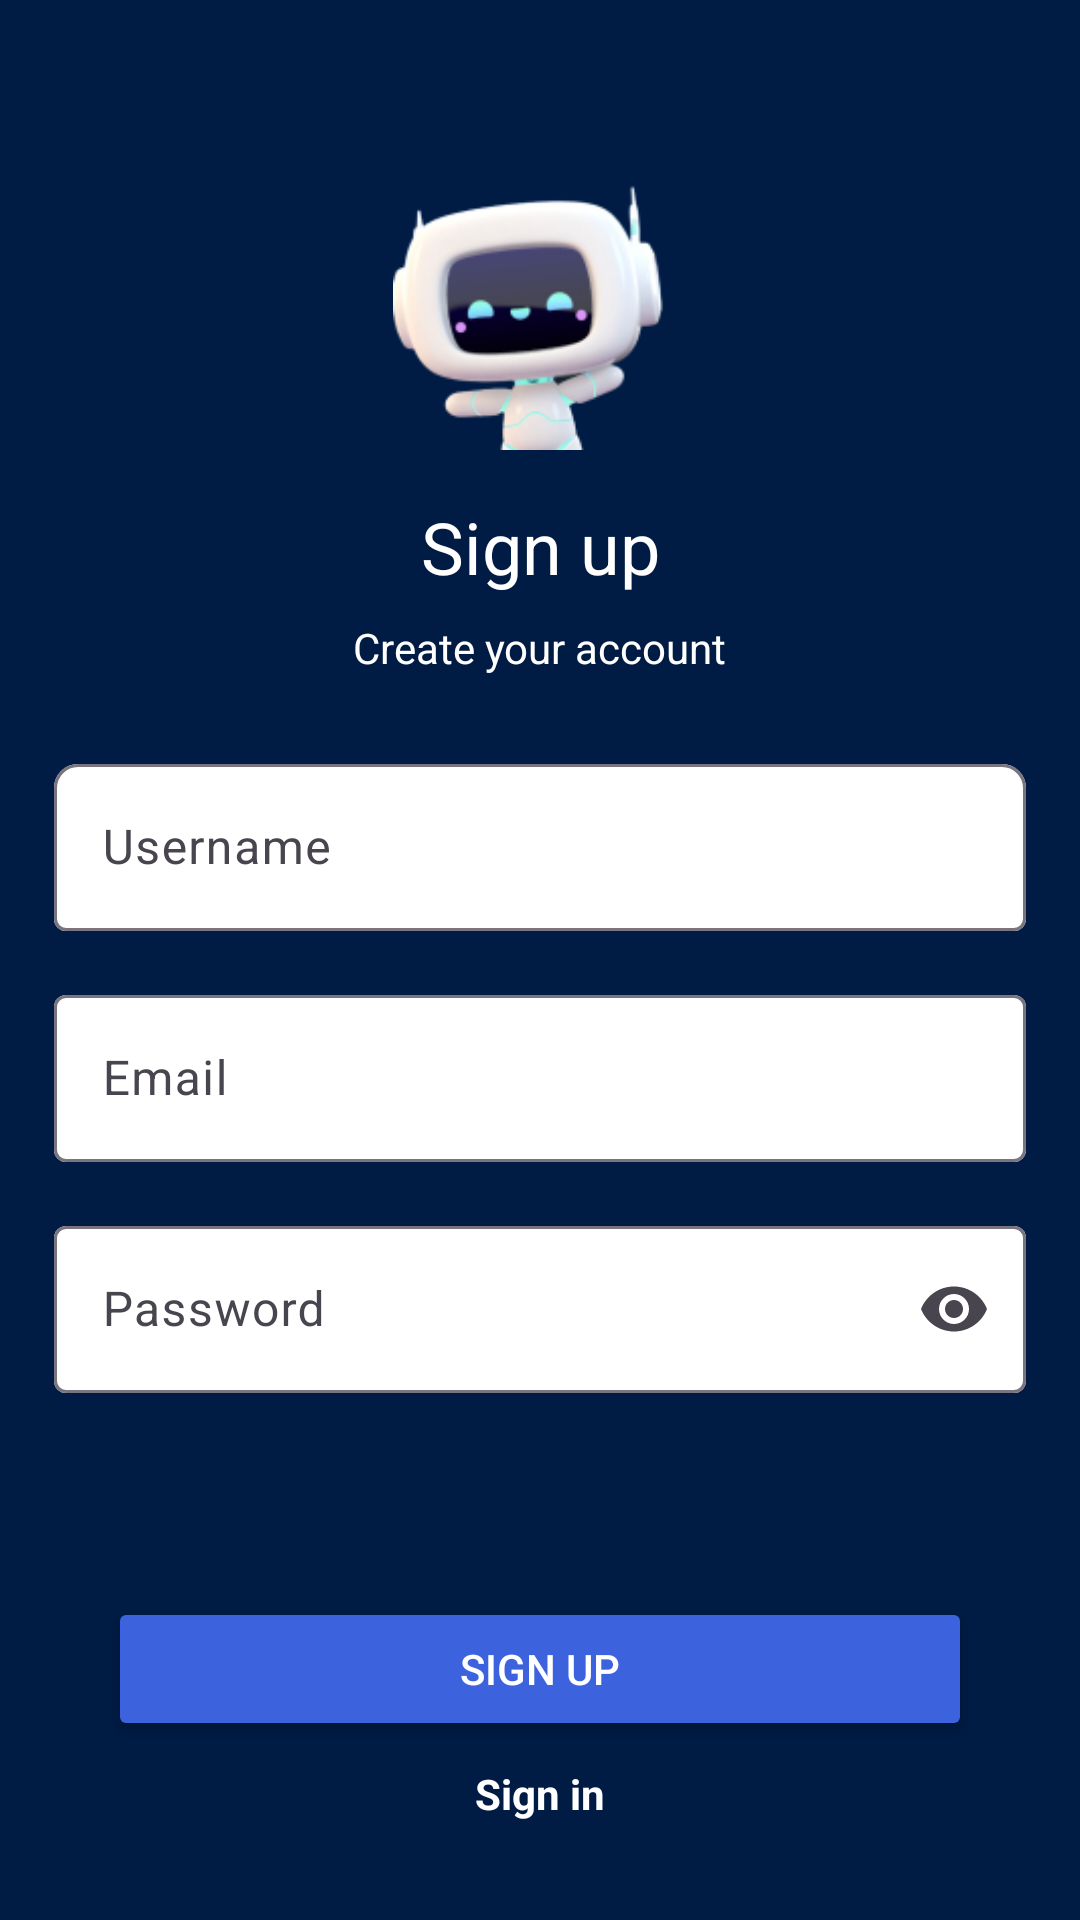

Point at icon controls on the screen. Image size 1080 × 1920, points as point (x, y).
robo: point (528, 318)
